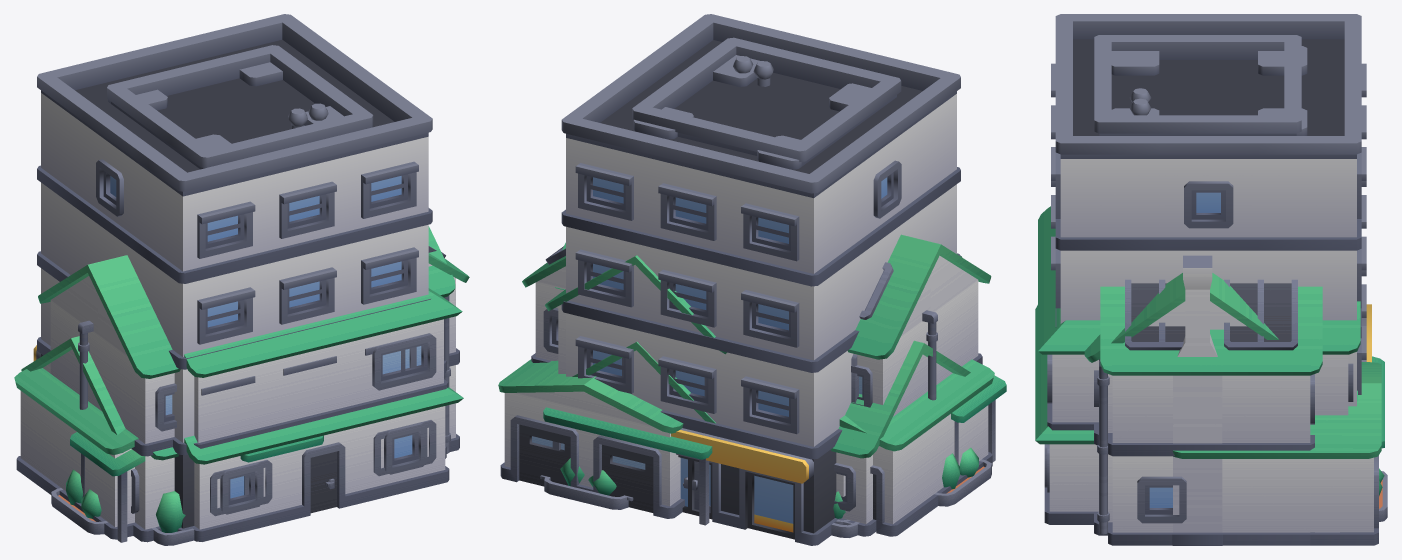
Rendered from buildings.glb.
The picture shows the model from 3 angles, left to right: view 1: azimuth 30°, elevation 25°; view 2: azimuth 150°, elevation 25°; view 3: azimuth 270°, elevation 25°; orthographic projection. The views are drawn at different scales.
Parts seen in each view (by area): view 1: building-i, building-type-f, building-type-n, building-type-m, building-f, building-type-d, building-type-b; view 2: building-i, building-type-n, building-f, building-type-d, building-type-b, building-type-f, building-type-m, building-type-j; view 3: building-i, building-type-b, building-type-d, building-type-f, building-type-n, building-f, building-type-m, building-type-u.
Boxes of the visible parts, left/top/right/bottom form: building-i: left=33, top=14, right=432, bottom=531; building-type-f: left=152, top=288, right=462, bottom=545; building-type-n: left=38, top=255, right=323, bottom=542; building-type-m: left=184, top=387, right=463, bottom=541; building-f: left=107, top=45, right=373, bottom=169; building-type-d: left=14, top=226, right=455, bottom=539; building-type-b: left=21, top=246, right=469, bottom=534; building-i: left=561, top=14, right=960, bottom=545; building-type-n: left=498, top=234, right=1006, bottom=534; building-f: left=632, top=37, right=901, bottom=166; building-type-d: left=555, top=242, right=994, bottom=536; building-type-b: left=522, top=246, right=991, bottom=536; building-type-f: left=543, top=253, right=961, bottom=525; building-type-m: left=544, top=342, right=715, bottom=509; building-type-j: left=830, top=394, right=867, bottom=520; building-i: left=1051, top=14, right=1371, bottom=406; building-type-b: left=1097, top=279, right=1339, bottom=545; building-type-d: left=1084, top=255, right=1278, bottom=545; building-type-f: left=1038, top=206, right=1384, bottom=524; building-type-n: left=1172, top=362, right=1381, bottom=545; building-f: left=1094, top=35, right=1301, bottom=135; building-type-m: left=1035, top=305, right=1387, bottom=524; building-type-u: left=1078, top=320, right=1100, bottom=511.
Size of the model in its own units: 1.83 by 1.69 by 1.43.
Materials: 2 (2 with a texture image).
